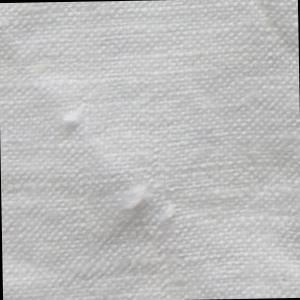Wrinkle: (47, 86, 183, 284), (250, 1, 299, 64)
